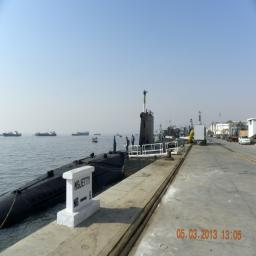submarine: (2, 113, 202, 227)
